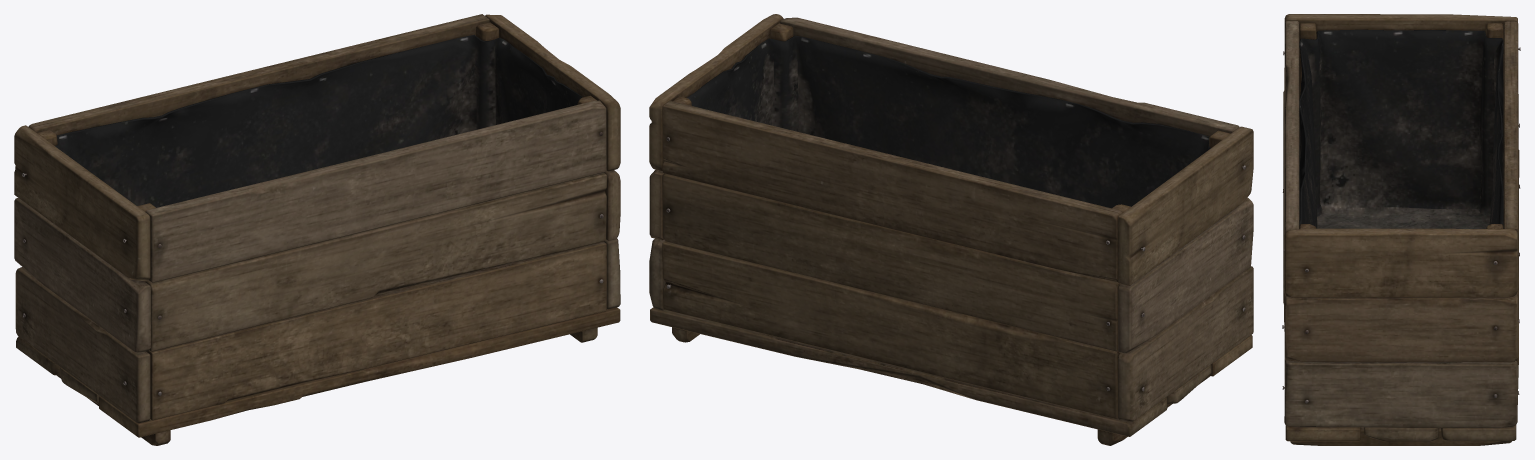
The model's file is planter_box_01.glb.
The picture shows the model from 3 angles, left to right: view 1: azimuth 30°, elevation 25°; view 2: azimuth 150°, elevation 25°; view 3: azimuth 270°, elevation 25°; orthographic projection. The views are drawn at different scales.
Visible parts, largest first — view 1: planter_box_01; view 2: planter_box_01; view 3: planter_box_01.
Boxes of the visible parts, x1,y1,x2,y2 form: planter_box_01: (14,14,620,445); planter_box_01: (649,14,1253,445); planter_box_01: (1282,14,1520,445).
Size of the model in its own units: 0.9126 by 0.425 by 0.4137.
Materials: 1 (1 with a texture image).
